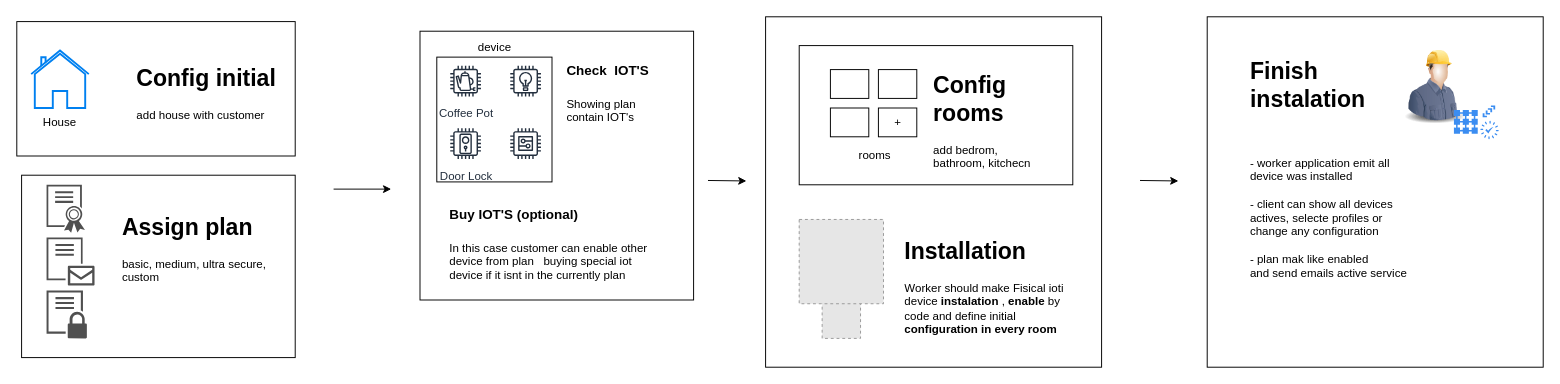
This 1560x384 diagram has some shape labels left out. Grey dashed boxes stand in for pictures. Each missing label, with the centre of its shape:
"Generic" goes at (525,143).
"Lightbulb" goes at (525,80).
